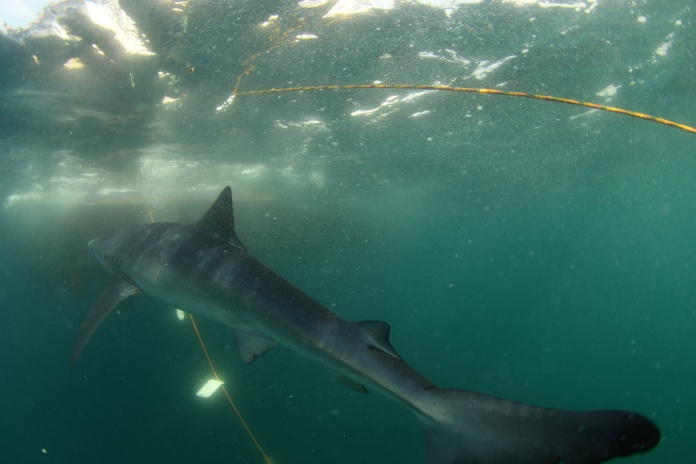Azul: (61, 182, 679, 464)
